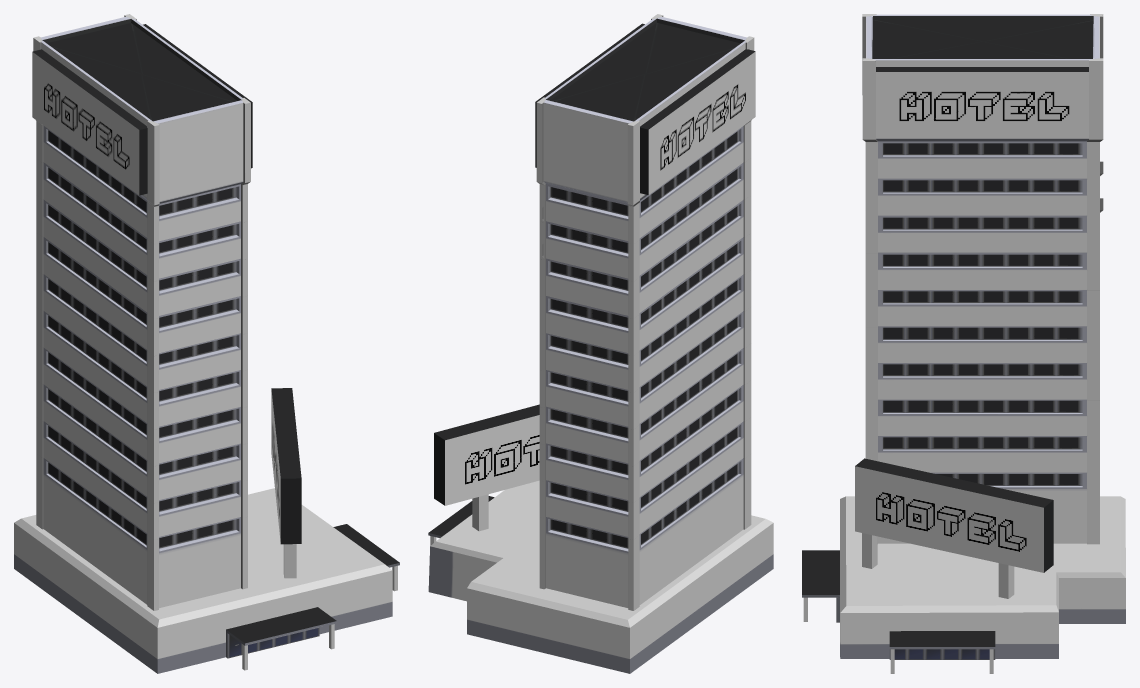
Rendered from Hotel.fbx.
The picture shows the model from 3 angles, left to right: view 1: azimuth 30°, elevation 25°; view 2: azimuth 150°, elevation 25°; view 3: azimuth 270°, elevation 25°; orthographic projection.
Visible parts, largest first — view 1: Hotel; view 2: Hotel; view 3: Hotel.
Part boxes in pixels (x1,y1,x2,y2): Hotel: [14, 14, 399, 673]; Hotel: [428, 14, 773, 673]; Hotel: [802, 14, 1125, 673].
Size of the model in its own units: 1099 by 2110 by 1158.
